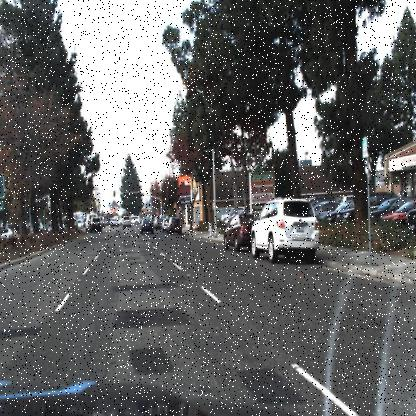car: (247, 194, 324, 264), (334, 192, 396, 223), (221, 209, 255, 254), (137, 216, 157, 236), (166, 214, 182, 237), (87, 215, 102, 234), (120, 213, 134, 230), (160, 214, 170, 236), (109, 218, 120, 226)
